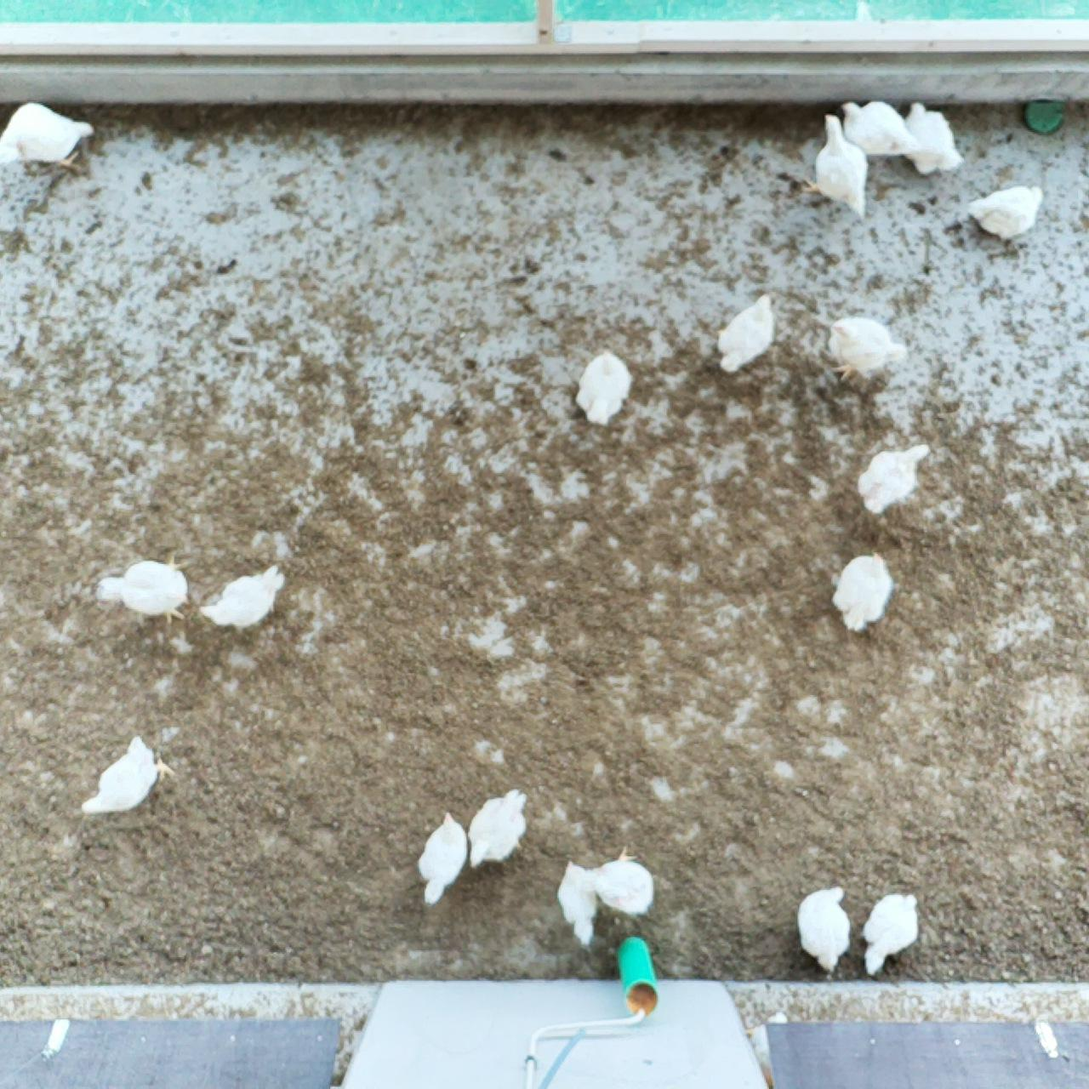chicken: (795, 110, 871, 222), (78, 734, 177, 817), (93, 549, 193, 627), (0, 100, 97, 174), (818, 314, 911, 385), (197, 563, 288, 635), (855, 442, 935, 517), (829, 548, 895, 637), (714, 289, 779, 376), (793, 884, 854, 975), (465, 787, 531, 871), (570, 347, 635, 430), (836, 97, 922, 159), (586, 843, 656, 919), (415, 810, 469, 908), (862, 889, 921, 978), (965, 182, 1047, 244), (903, 99, 966, 177), (553, 858, 602, 948)
